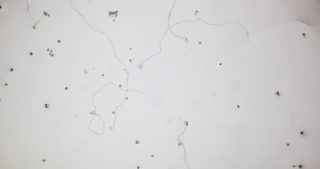germinated: (178, 34, 190, 44), (137, 57, 147, 68), (107, 120, 117, 131), (89, 109, 100, 119), (181, 120, 190, 131)
nongerminated: (272, 89, 283, 99), (233, 103, 243, 113), (283, 141, 292, 151), (216, 59, 225, 69), (299, 30, 309, 39), (42, 101, 52, 110), (55, 37, 64, 46), (297, 129, 306, 137), (133, 138, 142, 146), (197, 39, 205, 48), (27, 49, 35, 58), (63, 85, 71, 93), (116, 82, 124, 90), (121, 95, 130, 102), (100, 71, 107, 79), (148, 152, 155, 160), (176, 140, 183, 148), (31, 23, 38, 31), (8, 65, 15, 73), (3, 80, 10, 88), (110, 109, 117, 116), (193, 8, 201, 14), (126, 46, 133, 52), (40, 157, 47, 163), (52, 51, 58, 58), (45, 46, 51, 52), (128, 57, 133, 64), (47, 51, 52, 56)
